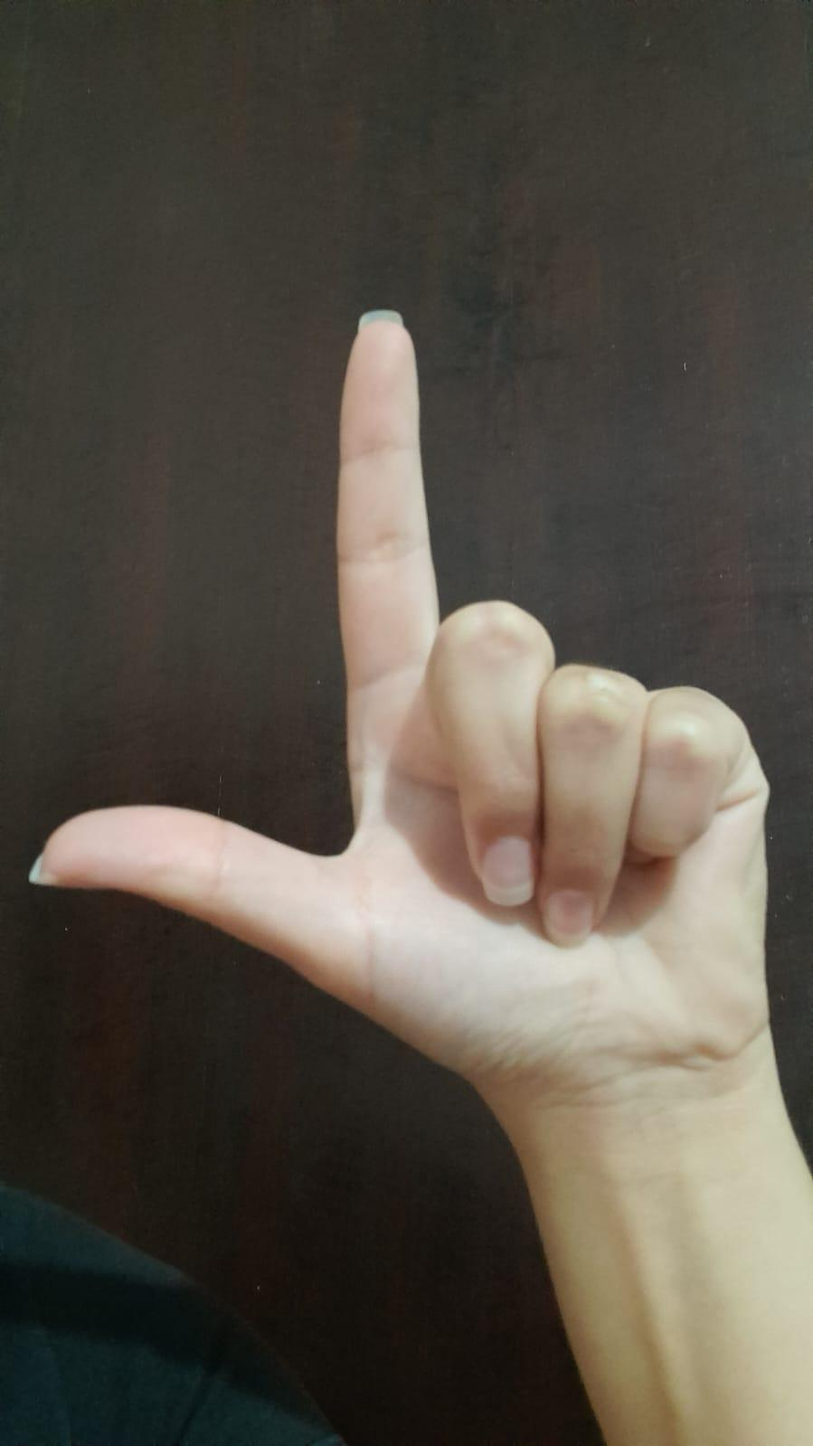L: (23, 285, 796, 1081)
